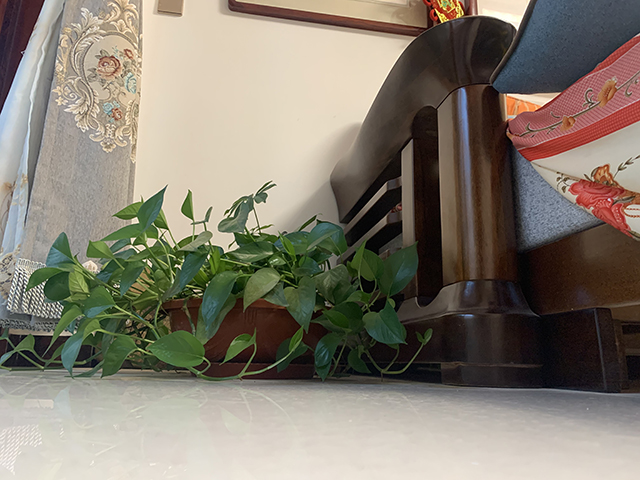curtain: (1, 1, 142, 334)
sofa: (329, 1, 640, 394)
